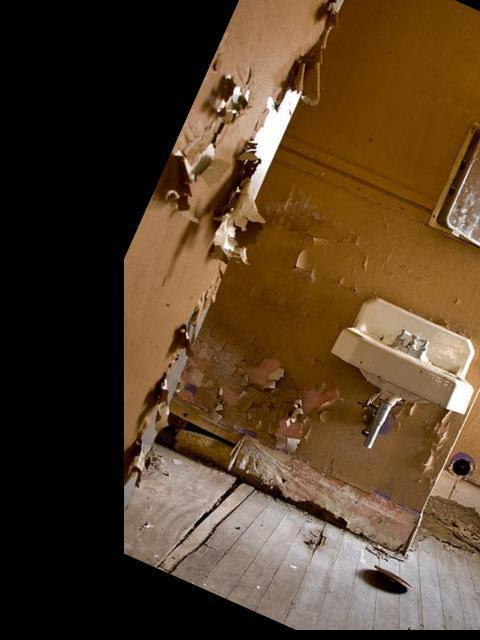Lavamanos: (290, 277, 480, 483)
